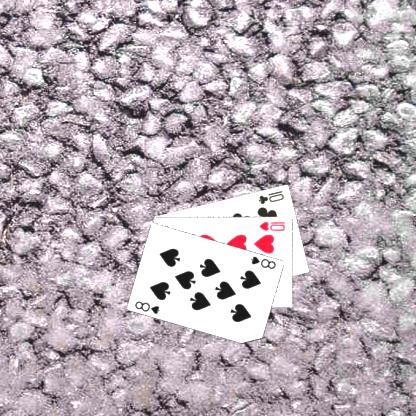10C: (256, 188, 285, 205)
10H: (256, 218, 286, 232)
8S: (132, 298, 162, 316), (248, 254, 277, 270)
